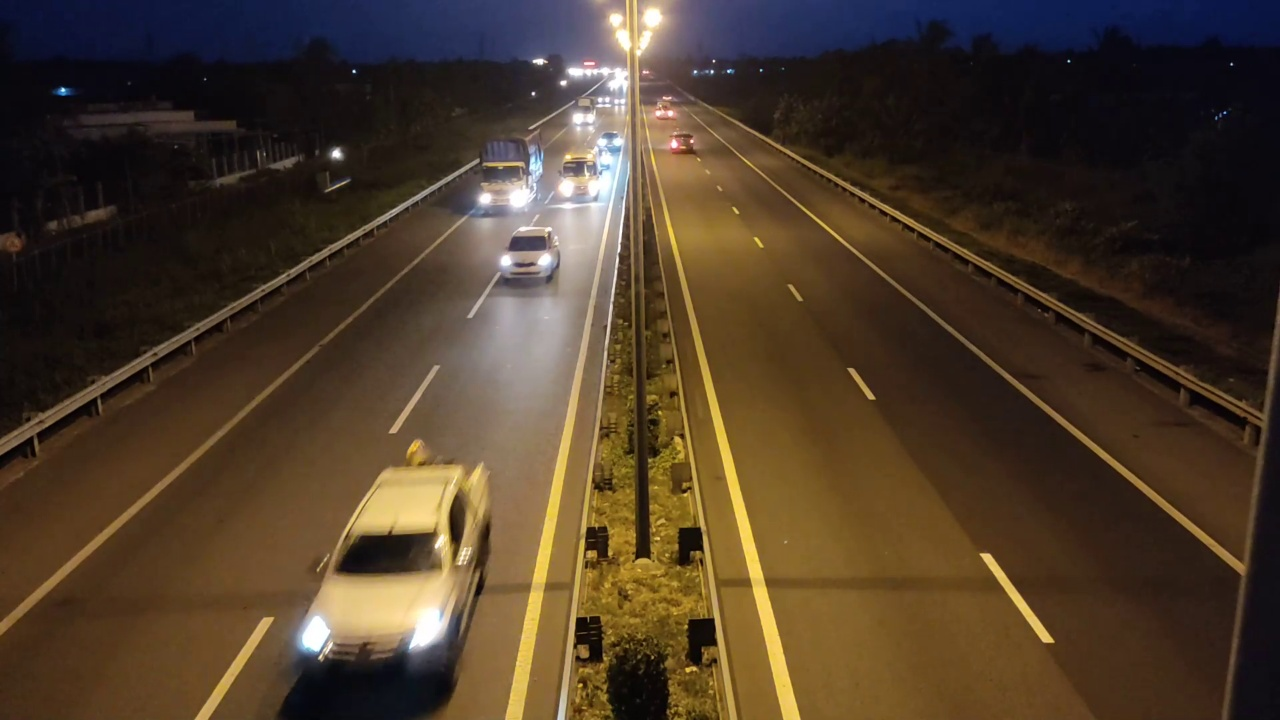car: (293, 461, 493, 685), (497, 225, 561, 284), (667, 131, 697, 155)
